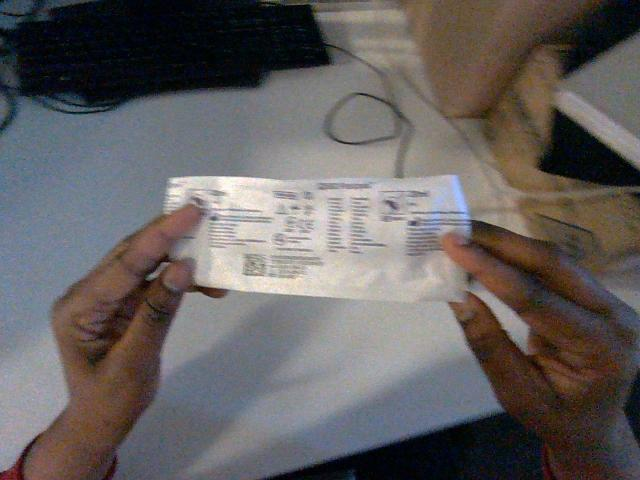syringe: (165, 176, 469, 300)
